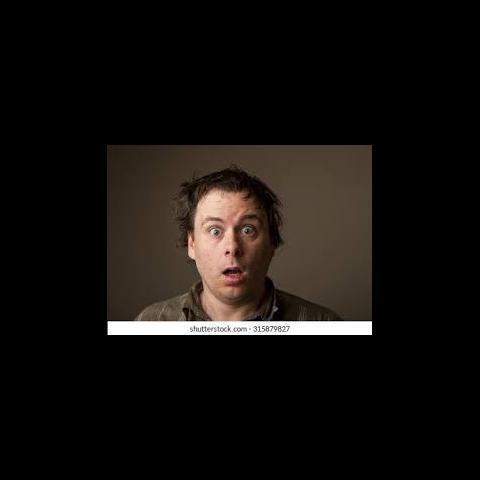opened: (202, 214, 266, 244)
